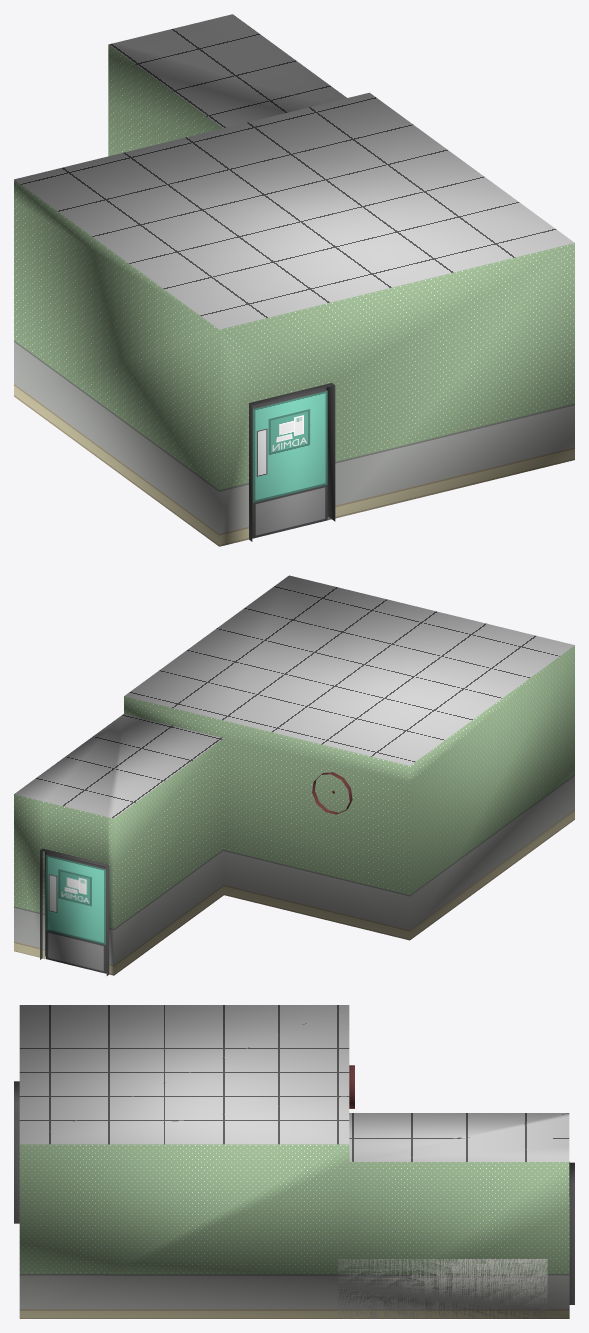
The model's file is OfficeRoom.fbx.
3 renders of one model, top to bottom at view 1: azimuth 30°, elevation 25°; view 2: azimuth 150°, elevation 25°; view 3: azimuth 270°, elevation 25°, orthographic. The views are drawn at different scales.
Visible parts, largest first — view 1: Room, DOOR1; view 2: Room, DOOR2; view 3: Room, Cabinet.001, DOOR1, DOOR2.
Part boxes in pixels (box(x1,y1,x2,y2)): Room: box(14, 14, 574, 546); DOOR1: box(249, 383, 335, 541); Room: box(14, 575, 574, 975); DOOR2: box(40, 848, 109, 975); Room: box(19, 1005, 569, 1318); Cabinet.001: box(338, 1259, 547, 1318); DOOR1: box(14, 1081, 19, 1223); DOOR2: box(569, 1162, 574, 1304).
Bounding box in the file's own units: 600 × 350 × 1020.
13 materials, 12 textured.
